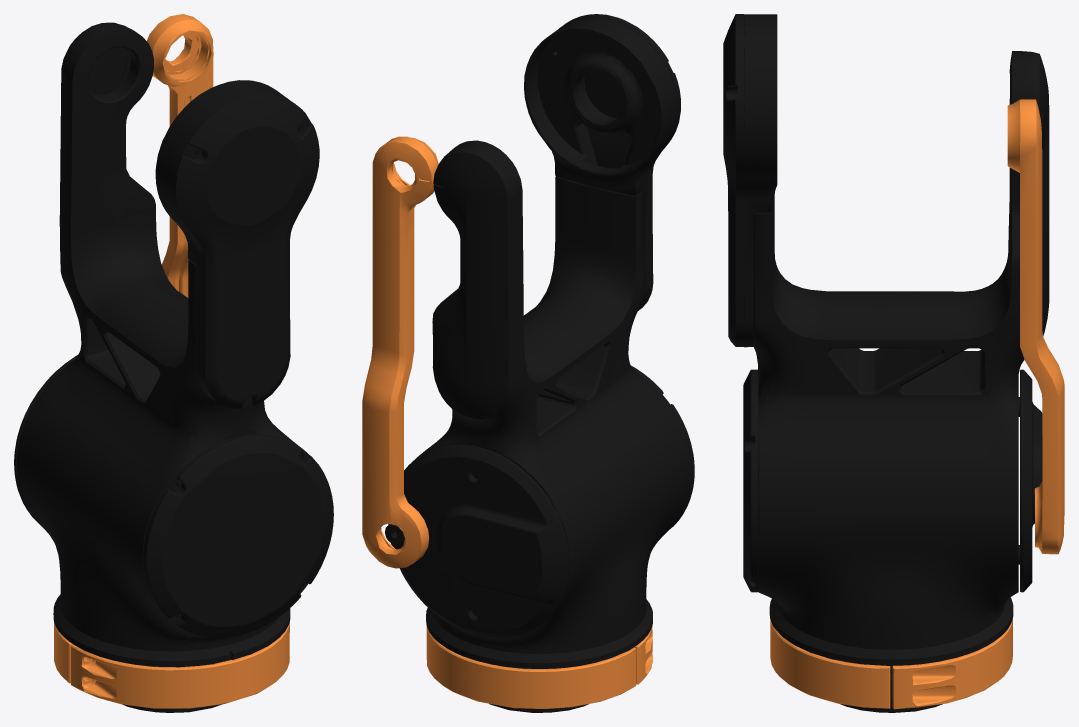
Rendered from left_arm_link5.dae.
3 renders of one model, left to right at view 1: azimuth 30°, elevation 25°; view 2: azimuth 150°, elevation 25°; view 3: azimuth 270°, elevation 25°, orthographic. The views are drawn at different scales.
Visible parts, largest first — view 1: geom3, geom2, geom0, geom1; view 2: geom3, geom0, geom1, geom2; view 3: geom3, geom0, geom1, geom2.
Part boxes in pixels (x1,y1,x2,y2): geom3: [16, 22, 319, 712]; geom2: [143, 434, 333, 637]; geom0: [54, 14, 289, 708]; geom1: [14, 355, 77, 524]; geom3: [385, 14, 691, 712]; geom0: [362, 136, 652, 708]; geom1: [388, 444, 568, 638]; geom2: [631, 365, 694, 528]; geom3: [723, 14, 1049, 712]; geom0: [770, 99, 1064, 709]; geom1: [1018, 369, 1042, 592]; geom2: [743, 369, 758, 592].
Size of the model in its own units: 0.0992 by 0.138 by 0.2938.
